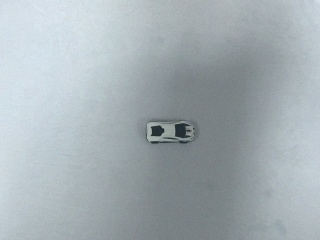toy_car: (146, 121, 197, 144)
